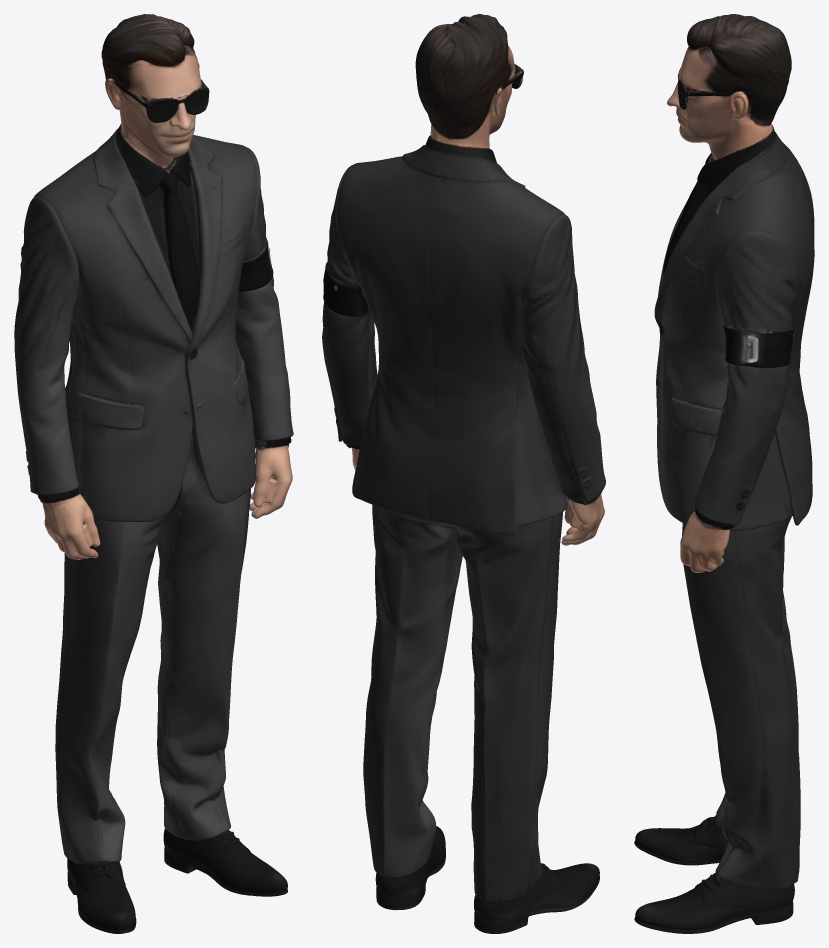
Rendered from alberto.glb.
The picture shows the model from 3 angles, left to right: view 1: azimuth 30°, elevation 25°; view 2: azimuth 150°, elevation 25°; view 3: azimuth 270°, elevation 25°; orthographic projection.
Visible parts, largest first — view 1: Mesh_0; view 2: Mesh_0; view 3: Mesh_0.
Part boxes in pixels (<box>): Mesh_0: <box>14,14,293,933</box>; Mesh_0: <box>322,14,605,933</box>; Mesh_0: <box>634,14,814,933</box>.
Size of the model in its own units: 0.5939 by 1.9 by 0.3573.
Materials: 1 (1 with a texture image).
